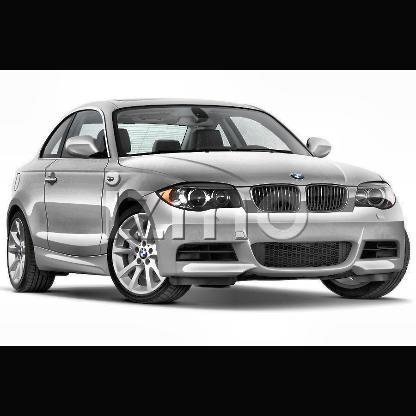BMW 1 Series Coupe 2012: (6, 100, 412, 307)
